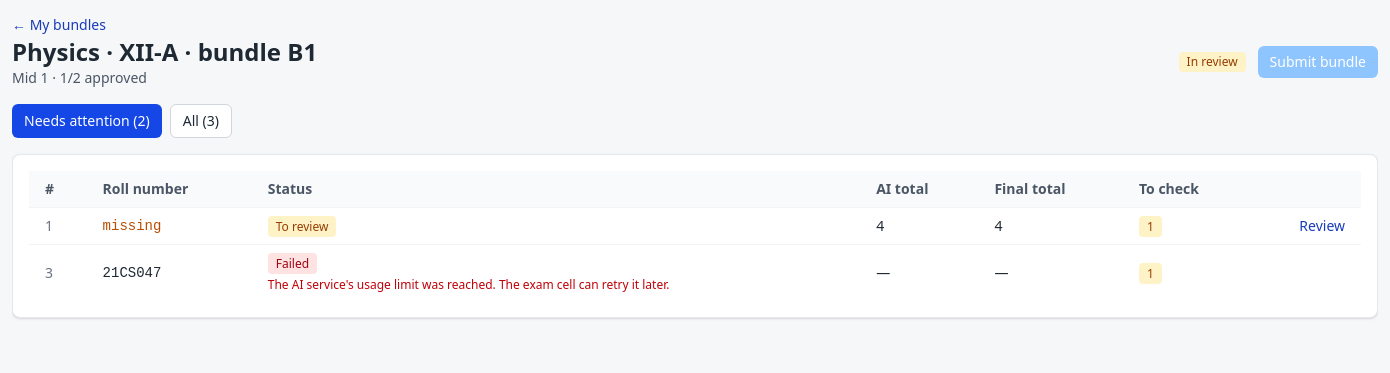
Test: Bundle page › lists scripts needing attention first and can show all
Expected: the text "missing" is shown, [103,218,161,234]
Expected: the text "21CS046" is not shown
Click the button "All (3)" at (201, 121), box [170,104,232,138]
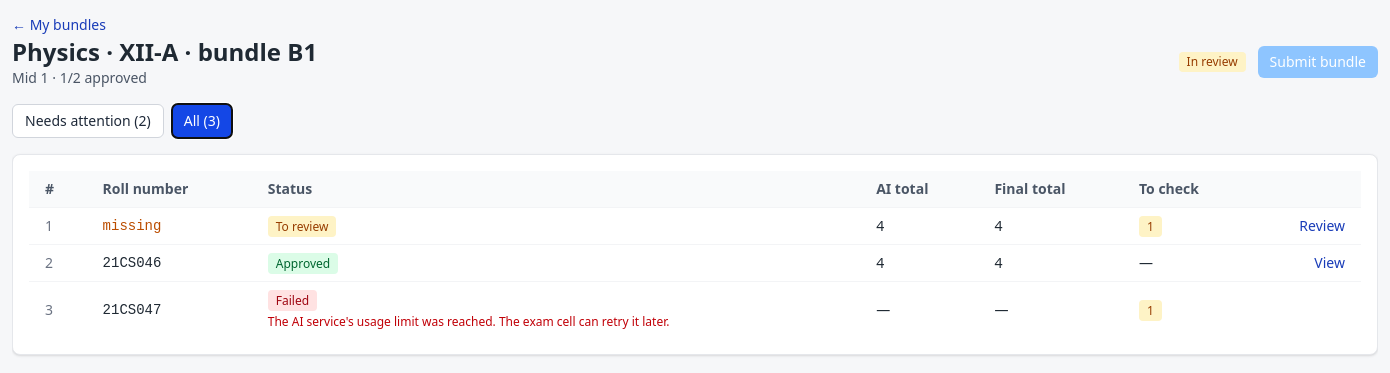
Expected: the text "21CS046" is shown, [87,244,252,282]
